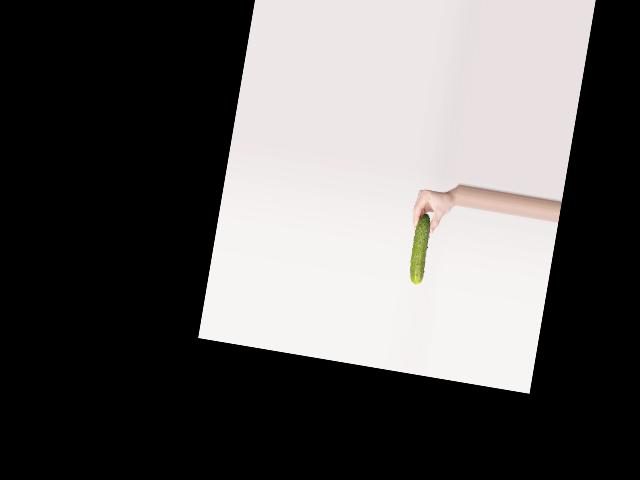cucumber: (406, 212, 432, 284)
